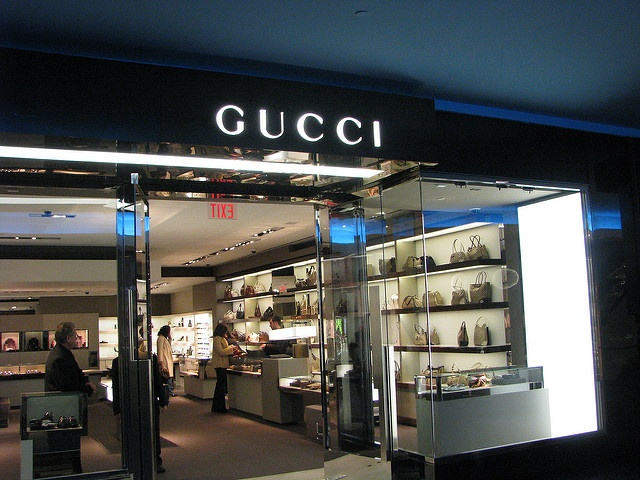Gucci: (194, 103, 398, 148)
